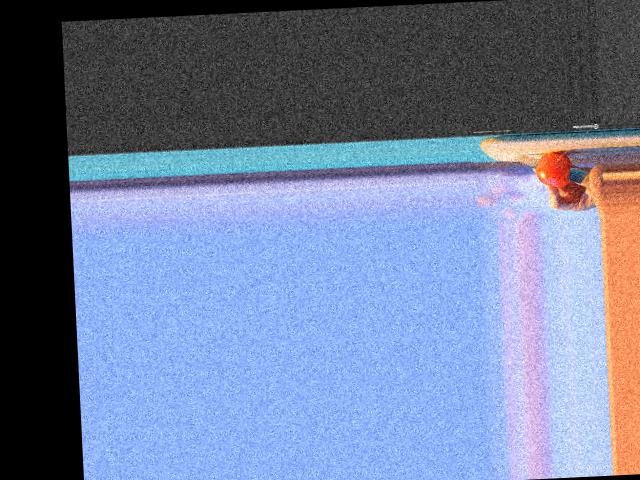tomato: (534, 151, 572, 187)
